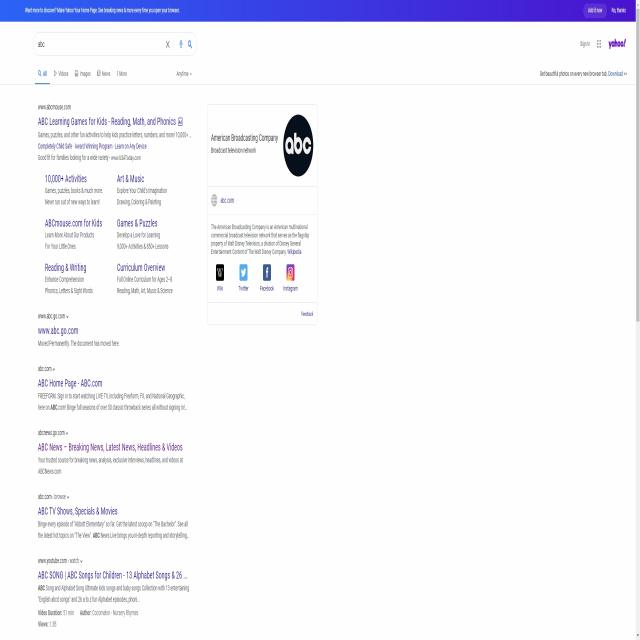menu-bar: (576, 29, 628, 58)
search: (31, 30, 199, 60)
side-panel: (204, 99, 321, 327)
tab-bar: (34, 65, 130, 83)
